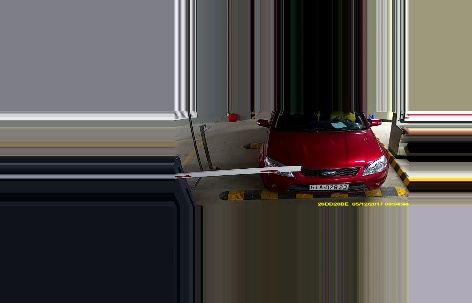plate: (308, 179, 349, 190)
